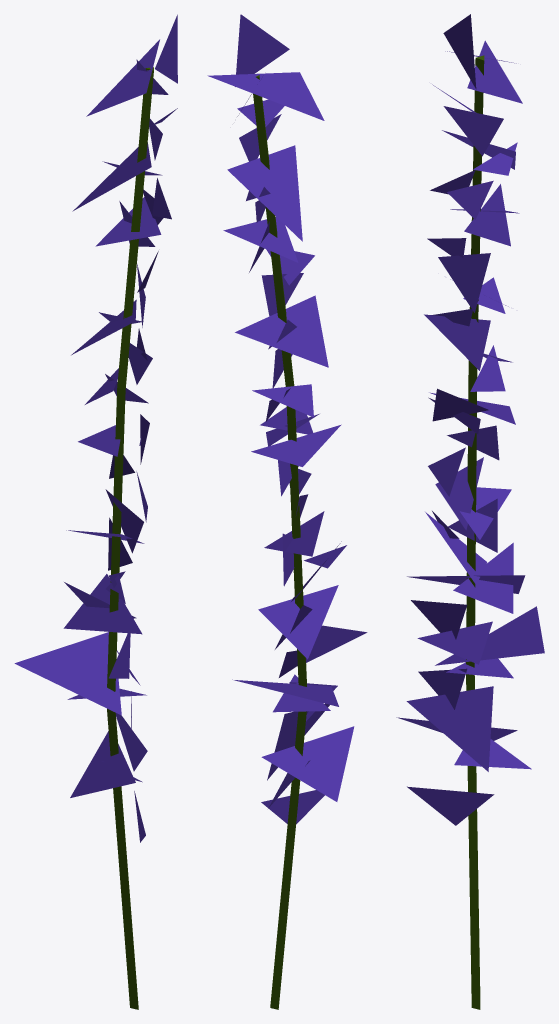
The model's file is Blue lavender.fbx.
The picture shows the model from 3 angles, left to right: view 1: azimuth 30°, elevation 25°; view 2: azimuth 150°, elevation 25°; view 3: azimuth 270°, elevation 25°; orthographic projection. The views are drawn at different scales.
Parts seen in each view (by area): view 1: Cylinder, Cylinder.013; view 2: Cylinder, Cylinder.013; view 3: Cylinder, Cylinder.013.
Boxes of the visible parts, x1,y1,x2,y2 form: Cylinder: [14, 14, 177, 842]; Cylinder.013: [107, 67, 153, 1009]; Cylinder: [207, 14, 367, 824]; Cylinder.013: [253, 75, 306, 1009]; Cylinder: [396, 14, 544, 825]; Cylinder.013: [466, 55, 484, 1009].
Bounding box in the file's own units: 13.03 × 88.03 × 11.71.
